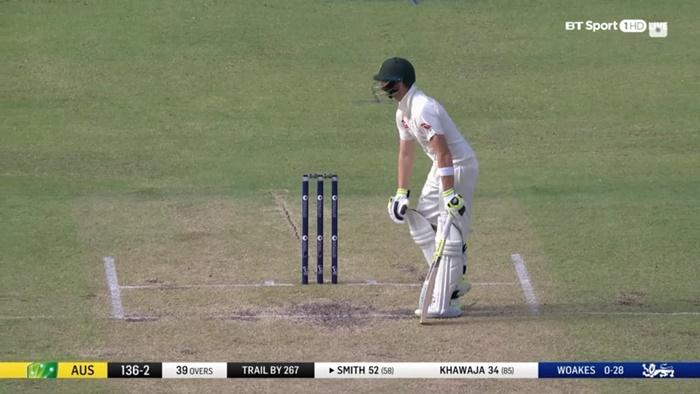batsman: (370, 58, 479, 328)
